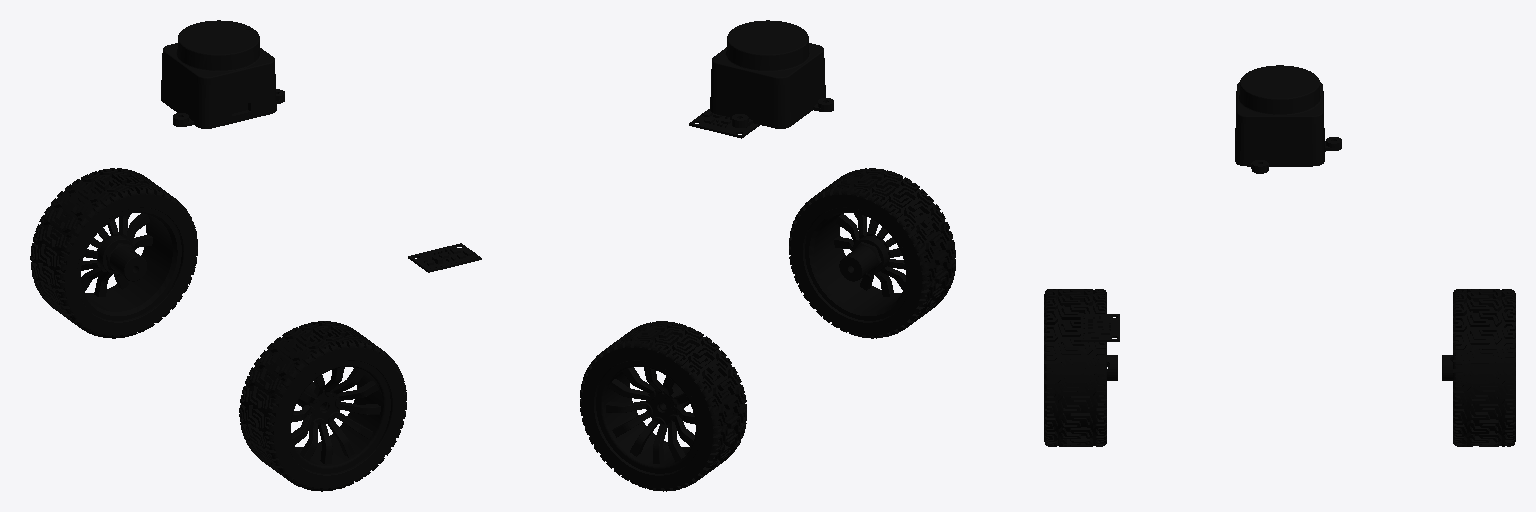
The robot description file, URDF, robot "lenna_description":
<?xml version="1.0" encoding="utf-8"?>
<robot
  name="lenna_description">

  <link 
    name="world"/>
  <joint 
    name="base_joint" 
    type="fixed">
    <parent 
      link="world"/>
    <child 
      link="base_link"/>
    <origin 
      rpy="0 0 0" 
      xyz="0.0 0.0 0.02"/>
  </joint>

  <link
    name="base_link">
    <inertial>
      <origin
        xyz="0.0 0.0 0.0"
        rpy="0 0 0" />
      <mass
        value="2" />
      <inertia
        ixx="0.01"
        ixy="0.0"
        ixz="0.0"
        iyy="0.01"
        iyz="0.0"
        izz="0.5" />
    </inertial>
    <visual>
      <origin
        xyz="0 0 0"
        rpy="0 0 0" />
      <geometry>
        <mesh
          filename="package://lenna_description/meshes/base_link.STL" />
      </geometry>
      <material
        name="">
        <color
          rgba="0.12 0.12 0.12 1" />
      </material>
    </visual>
    <collision>
      <origin
        xyz="0 0 0"
        rpy="0 0 0" />
      <geometry>
        <mesh
          filename="package://lenna_description/meshes/base_link.STL" />
      </geometry>
    </collision>
  </link>
  <link
    name="right_wheel_link">
    <inertial>
      <origin
        xyz="0.0 0.0 0.0"
        rpy="0 0 0" />
      <mass
        value="0.05" />
      <inertia
        ixx="0.001"
        ixy="0.0"
        ixz="0.0"
        iyy="0.001"
        iyz="0.0"
        izz="0.001" />
    </inertial>
    <visual>
      <origin
        xyz="0 0 0"
        rpy="0 0 0" />
      <geometry>
        <mesh
          filename="package://lenna_description/meshes/right_wheel_link.STL" />
      </geometry>
      <material
        name="">
        <color
          rgba="0.075 0.075 0.075 1" />
      </material>
    </visual>
    <collision>
      <origin
        xyz="0 0 0"
        rpy="0 0 0" />
      <geometry>
        <mesh
          filename="package://lenna_description/meshes/right_wheel_link.STL" />
      </geometry>
    </collision>
  </link>
  <joint
    name="right_wheel_joint"
    type="continuous">
    <origin
      xyz="6.9033E-05 -0.08975 0.014"
      rpy="1.5708 0 0" />
    <parent
      link="base_link" />
    <child
      link="right_wheel_link" />
    <axis
      xyz="0 0 -1" />
    <limit
      effort="0.52"
      velocity="31" />
    <dynamics
      damping="0.01"
      friction="0.6" />
  </joint>
  <link
    name="left_wheel_link">
    <inertial>
      <origin
        xyz="0.0 0.0 0.0"
        rpy="0 0 0" />
      <mass
        value="0.05" />
      <inertia
        ixx="0.001"
        ixy="0.0"
        ixz="0.0"
        iyy="0.001"
        iyz="0.0"
        izz="0.001" />
    </inertial>
    <visual>
      <origin
        xyz="0 0 0"
        rpy="0 0 0" />
      <geometry>
        <mesh
          filename="package://lenna_description/meshes/left_wheel_link.STL" />
      </geometry>
      <material
        name="">
        <color
          rgba="0.075 0.075 0.075 1" />
      </material>
    </visual>
    <collision>
      <origin
        xyz="0 0 0"
        rpy="0 0 0" />
      <geometry>
        <mesh
          filename="package://lenna_description/meshes/left_wheel_link.STL" />
      </geometry>
    </collision>
  </link>
  <joint
    name="left_wheel_joint"
    type="continuous">
    <origin
      xyz="6.9033E-05 0.08975 0.014"
      rpy="-1.5708 0 0" />
    <parent
      link="base_link" />
    <child
      link="left_wheel_link" />
    <axis
      xyz="0 0 1" />
    <limit
      effort="0.52"
      velocity="31" />
    <dynamics
      damping="0.01"
      friction="0.6" />
  </joint>
  <link
    name="laser_scanner_link">
    <inertial>
      <origin
        xyz="0.0 0.0 0.0"
        rpy="0 0 0" />
      <mass
        value="0.05" />
      <inertia
        ixx="0.0001"
        ixy="0.0"
        ixz="0.0"
        iyy="0.0001"
        iyz="0.0"
        izz="0.0001" />
    </inertial>
    <visual>
      <origin
        xyz="0 0 0"
        rpy="0 0 0" />
      <geometry>
        <mesh
          filename="package://lenna_description/meshes/laser_scanner_link.STL" />
      </geometry>
      <material
        name="">
        <color
          rgba="0.08 0.08 0.08 1" />
      </material>
    </visual>
    <collision>
      <origin
        xyz="0 0 0"
        rpy="0 0 0" />
      <geometry>
        <mesh
          filename="package://lenna_description/meshes/laser_scanner_link.STL" />
      </geometry>
    </collision>
  </link>
  <joint
    name="laser_scanner_joint"
    type="fixed">
    <origin
      xyz="6.9033E-05 0 0.14644"
      rpy="0 0 0" />
    <parent
      link="base_link" />
    <child
      link="laser_scanner_link" />
    <axis
      xyz="0 0 0" />
  </joint>
  <link
    name="inertial_sensor_link">
    <inertial>
      <origin
        xyz="0.0 0.0 0.0"
        rpy="0 0 0" />
      <mass
        value="0.005" />
      <inertia
        ixx="0.00001"
        ixy="0.0"
        ixz="0.0"
        iyy="0.00001"
        iyz="0.0"
        izz="0.00001" />
    </inertial>
    <visual>
      <origin
        xyz="0 0 0"
        rpy="0 0 0" />
      <geometry>
        <mesh
          filename="package://lenna_description/meshes/inertial_sensor_link.STL" />
      </geometry>
      <material
        name="">
        <color
          rgba="0.08 0.08 0.08 1" />
      </material>
    </visual>
    <collision>
      <origin
        xyz="0 0 0"
        rpy="0 0 0" />
      <geometry>
        <mesh
          filename="package://lenna_description/meshes/inertial_sensor_link.STL" />
      </geometry>
    </collision>
  </link>
  <joint
    name="inertial_sensor_joint"
    type="fixed">
    <origin
      xyz="0.065091 -0.077436 0.064"
      rpy="0 0 0" />
    <parent
      link="base_link" />
    <child
      link="inertial_sensor_link" />
    <axis
      xyz="0 0 0" />
  </joint>
  

  <!--   GAZEBO RELATED PART   -->

  <gazebo>
    <plugin name="gazebo_ros_control" filename="libgazebo_ros_control.so">
      <robotNamespace>/LENNA</robotNamespace>
    </plugin>
  </gazebo>

  <transmission 
    name="right_wheel_link_trans">
    <type>transmission_interface/SimpleTransmission</type>
    <joint name="right_wheel_joint">
      <hardwareInterface>hardware_interface/VelocityJointInterface</hardwareInterface>
    </joint>
    <actuator 
      name="right_wheel_link_motor">
      <hardwareInterface>hardware_interface/VelocityJointInterface</hardwareInterface>
      <mechanicalReduction>1</mechanicalReduction>
    </actuator>
  </transmission>

  <transmission 
    name="left_wheel_link_trans">
    <type>transmission_interface/SimpleTransmission</type>
    <joint name="left_wheel_joint">
      <hardwareInterface>hardware_interface/VelocityJointInterface</hardwareInterface>
    </joint>
    <actuator 
      name="left_wheel_link_motor">
      <hardwareInterface>hardware_interface/VelocityJointInterface</hardwareInterface>
      <mechanicalReduction>1</mechanicalReduction>
    </actuator>
  </transmission>

</robot>

--- Render facts (derived) ---
Views: 3 orthographic renders of the robot side by side, from view 1: azimuth 30°, elevation 25°; view 2: azimuth 150°, elevation 25°; view 3: azimuth 270°, elevation 25°.
Model lenna_description with 6 links and 5 joints (2 continuous, 3 fixed), rooted at world, posed all joints at 0.
Visible links, largest first — view 1: right_wheel_link, left_wheel_link, laser_scanner_link, inertial_sensor_link; view 2: left_wheel_link, right_wheel_link, laser_scanner_link, inertial_sensor_link; view 3: left_wheel_link, right_wheel_link, laser_scanner_link, inertial_sensor_link.
Boxes of the visible links, box(x1,y1,x2,y2) form: right_wheel_link: box(239, 321, 406, 491); left_wheel_link: box(30, 168, 197, 338); laser_scanner_link: box(161, 20, 284, 128); inertial_sensor_link: box(408, 243, 481, 272); left_wheel_link: box(580, 321, 746, 491); right_wheel_link: box(789, 168, 955, 338); laser_scanner_link: box(710, 20, 833, 128); inertial_sensor_link: box(689, 109, 759, 138); left_wheel_link: box(1442, 289, 1515, 446); right_wheel_link: box(1044, 289, 1117, 446); laser_scanner_link: box(1235, 65, 1341, 173); inertial_sensor_link: box(1081, 314, 1119, 341).
Size in the robot's own frame: 0.1125 by 0.2035 by 0.1703 metres.
4 mesh visuals loaded from 5 distinct referenced files (4 binary STL); not drawn: 1 (reference not matched to a file when rendering).
